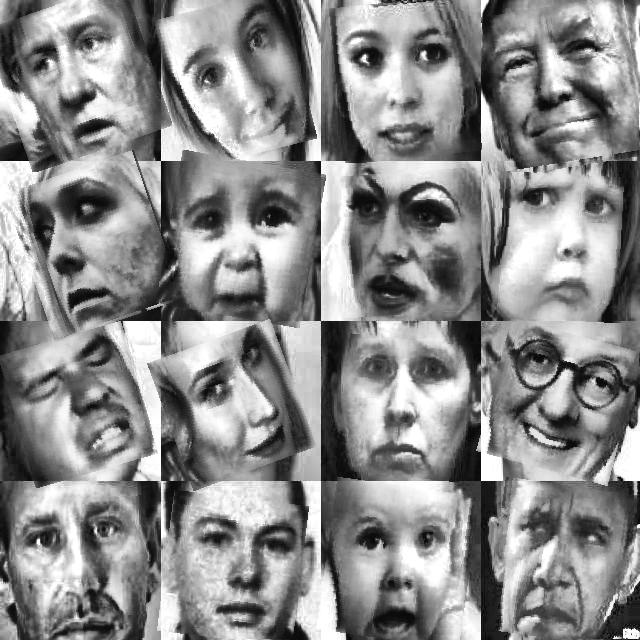angry: (489, 481, 636, 640), (6, 329, 150, 481), (489, 172, 627, 322), (338, 170, 474, 316)
fear: (15, 158, 174, 333), (320, 481, 475, 640), (340, 336, 470, 479)
happy: (487, 0, 640, 171), (161, 0, 309, 162), (484, 325, 636, 479), (333, 0, 478, 160), (156, 328, 306, 482)
neutral: (0, 0, 162, 162), (161, 494, 304, 640), (16, 496, 145, 640)
sad: (162, 156, 320, 322)
